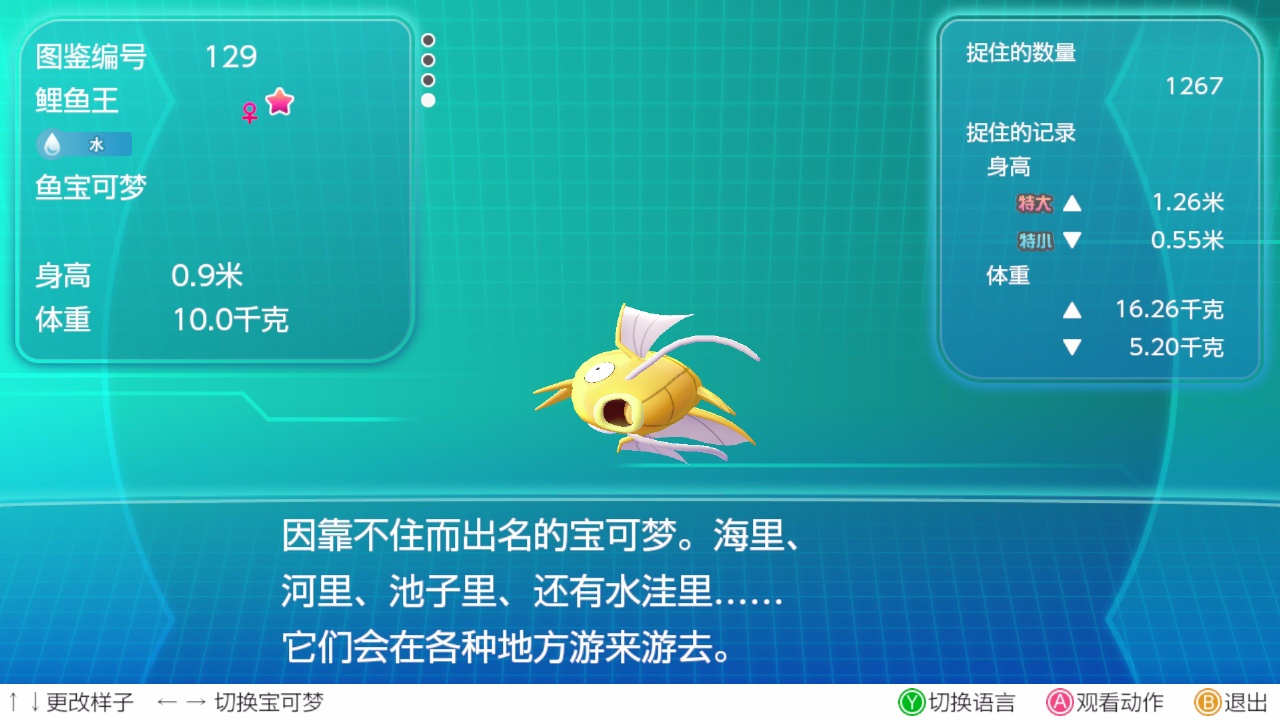Golden: (534, 303, 760, 464)
